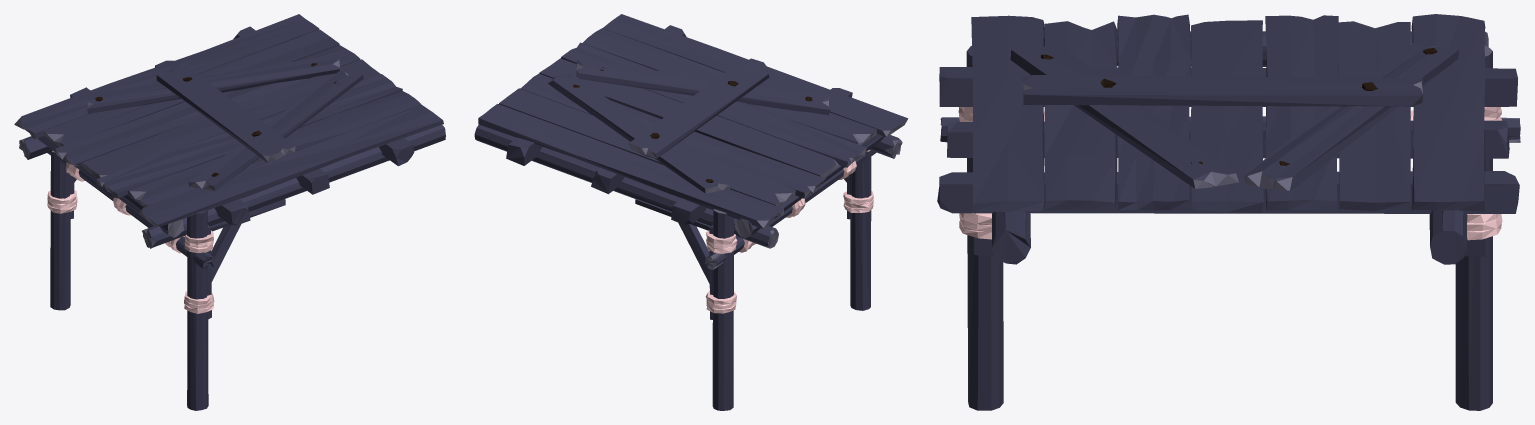
File: SFFA_Building_ExteriorAttachable.fbx
The picture shows the model from 3 angles, left to right: view 1: azimuth 30°, elevation 25°; view 2: azimuth 150°, elevation 25°; view 3: azimuth 270°, elevation 25°; orthographic projection. The views are drawn at different scales.
Visible parts, largest first — view 1: SFFA_Building_ExteriorAttachable; view 2: SFFA_Building_ExteriorAttachable; view 3: SFFA_Building_ExteriorAttachable.
Part boxes in pixels (x1,y1,x2,y2): SFFA_Building_ExteriorAttachable: [14, 14, 445, 410]; SFFA_Building_ExteriorAttachable: [474, 14, 908, 410]; SFFA_Building_ExteriorAttachable: [937, 14, 1520, 410].
Size of the model in its own units: 590 by 446 by 564.
